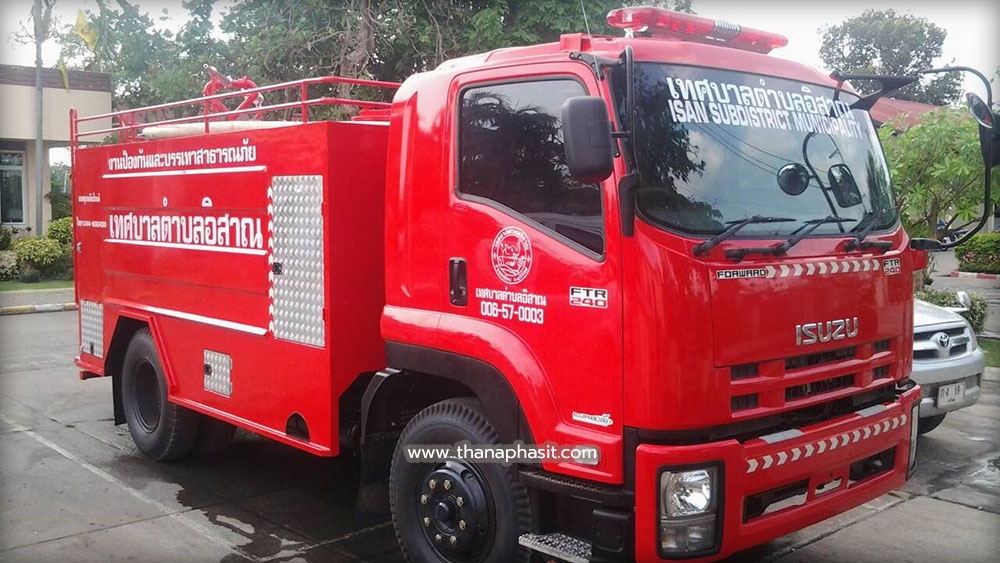truck: (71, 32, 917, 563)
